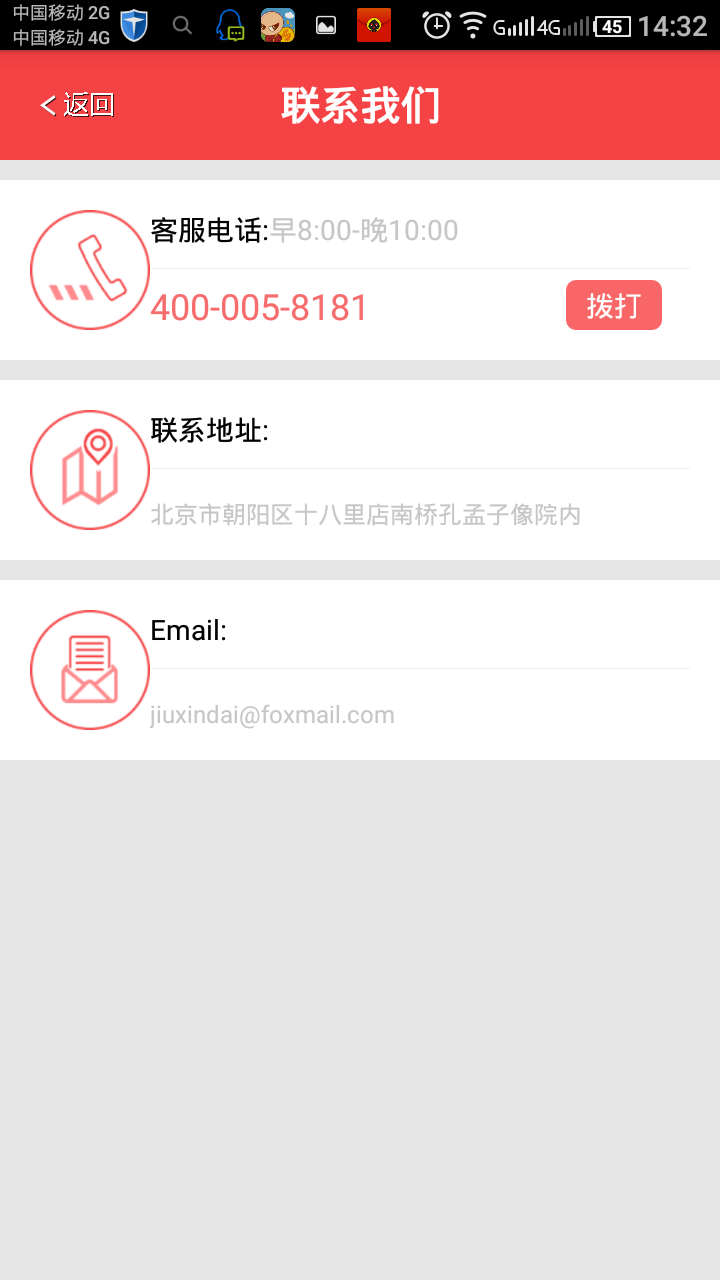textview: (6, 177, 720, 771)
